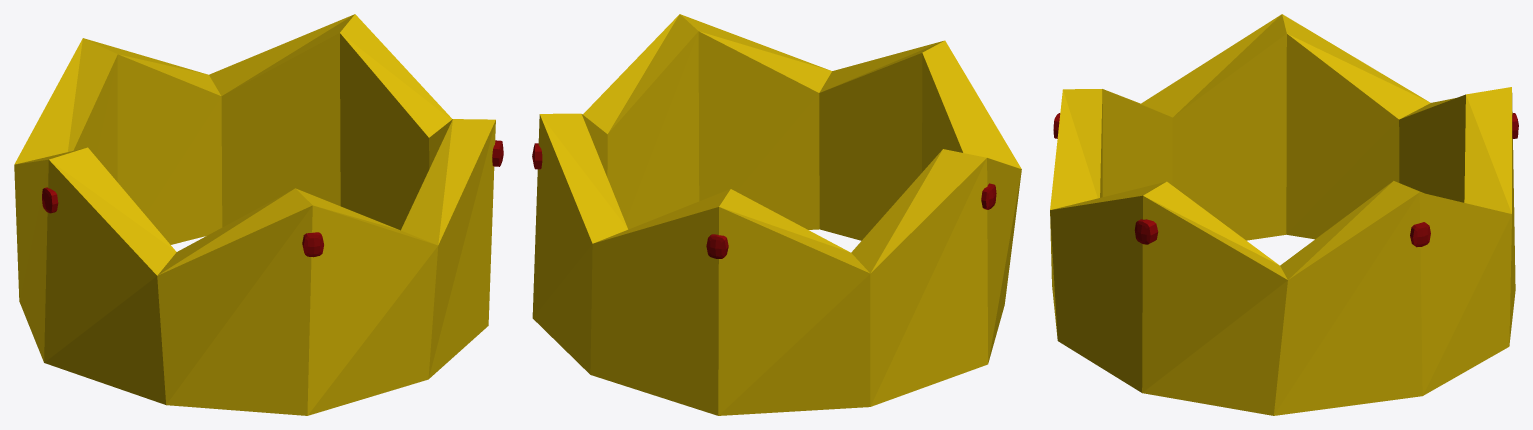
File: prop_crown_animated.FBX
3 views of the same model, side by side, from view 1: azimuth 30°, elevation 25°; view 2: azimuth 150°, elevation 25°; view 3: azimuth 270°, elevation 25° (orthographic).
Parts seen in each view (by area): view 1: crown; view 2: crown; view 3: crown.
Part boxes in pixels (x1,y1,x2,y2): crown: (14,14,503,415); crown: (532,14,1021,415); crown: (1050,14,1518,415).
Bounding box in the file's own units: 1.29 × 0.6143 × 1.25.
